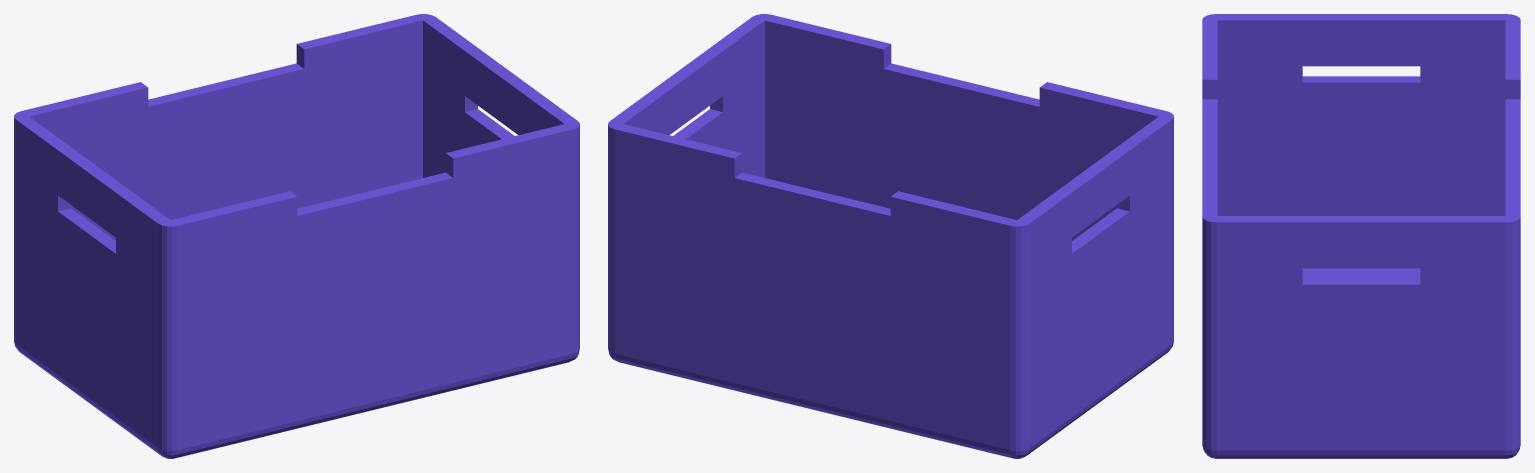
File: TOY BOX 1.fbx
3 views of the same model, side by side, from view 1: azimuth 30°, elevation 25°; view 2: azimuth 150°, elevation 25°; view 3: azimuth 270°, elevation 25° (orthographic).
Parts seen in each view (by area): view 1: BOX; view 2: BOX; view 3: BOX.
Part boxes in pixels (<box>): BOX: <box>14,14,579,458</box>; BOX: <box>608,14,1173,458</box>; BOX: <box>1202,14,1520,458</box>.
Size of the model in its own units: 322 by 174 by 208.
